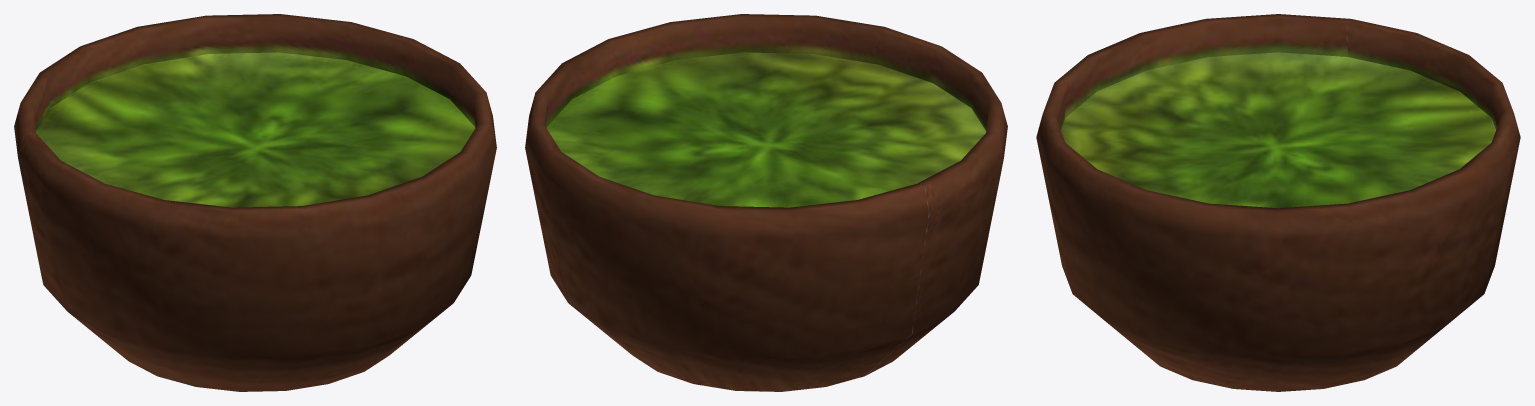
Rendered from Salad_vi.fbx.
3 views of the same model, side by side, from view 1: azimuth 30°, elevation 25°; view 2: azimuth 150°, elevation 25°; view 3: azimuth 270°, elevation 25° (orthographic).
Visible parts, largest first — view 1: salad; view 2: salad; view 3: salad.
Boxes of the visible parts, x1=… form: salad: x1=14, y1=14, x2=496, y2=391; salad: x1=525, y1=14, x2=1007, y2=391; salad: x1=1036, y1=14, x2=1520, y2=391.
Size of the model in its own units: 0.00294 by 0.00145 by 0.00294.
Materials: 1 (1 with a texture image).
